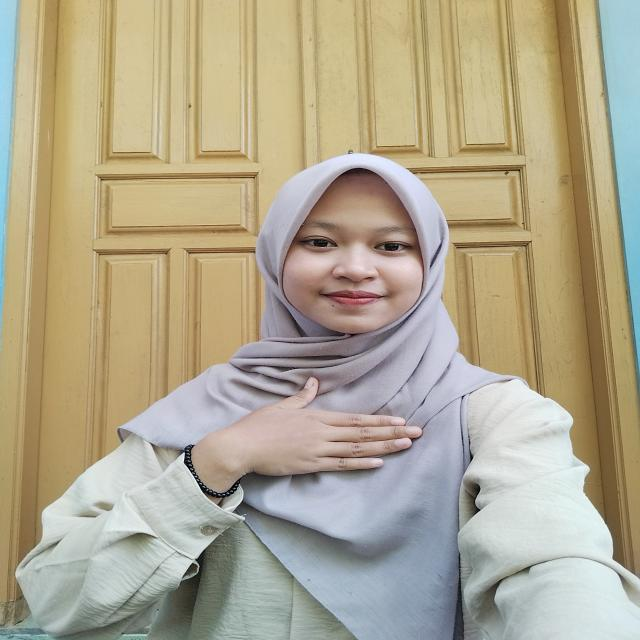tolong: (166, 375, 421, 511)
